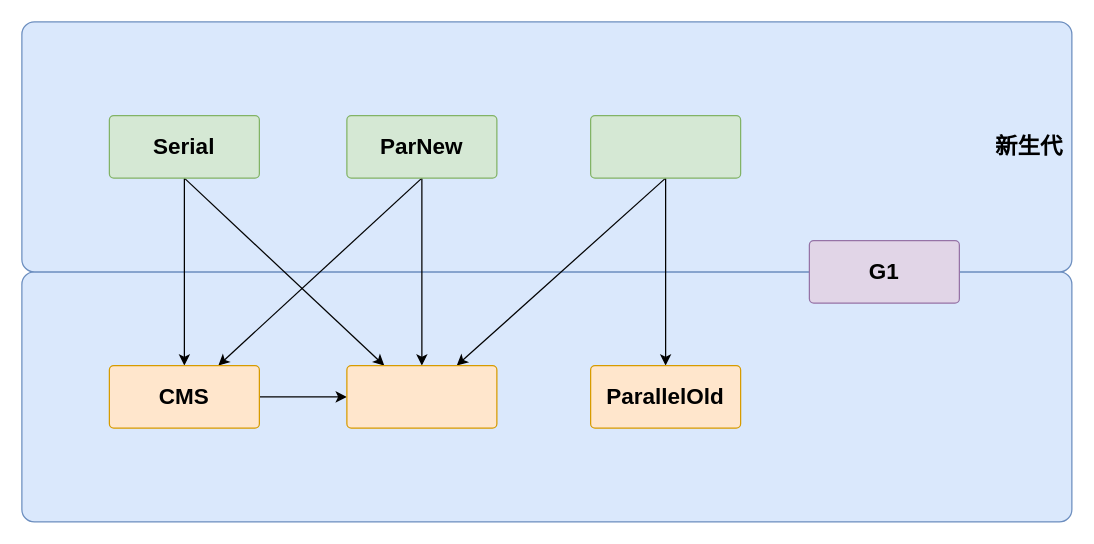
Some shapes in this 1094 by 544 pixel diagram are drawn without their labels. Here are the shapes that lost their labels. From the top down, the box of each, then its label:
(589, 114, 741, 178): Parallel Scavenge
(346, 364, 497, 428): SerialOld
(21, 271, 1072, 522): 老年代
